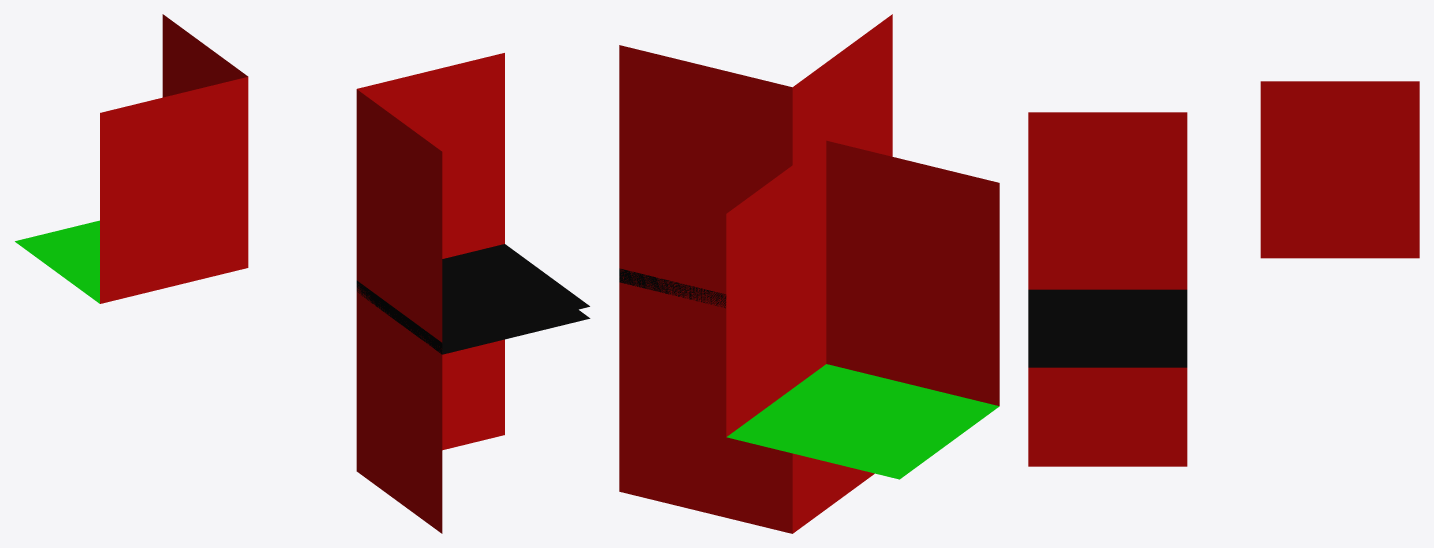
3 views of the same model, side by side, from view 1: azimuth 30°, elevation 25°; view 2: azimuth 150°, elevation 25°; view 3: azimuth 270°, elevation 25° (orthographic). The views are drawn at different scales.
Parts seen in each view (by area): view 1: None_A_P_A_E_W_A_E_A_None; view 2: None_A_P_A_E_W_A_E_A_None; view 3: None_A_P_A_E_W_A_E_A_None.
Boxes of the visible parts, x1,y1,x2,y2 form: None_A_P_A_E_W_A_E_A_None: (15,14,590,533); None_A_P_A_E_W_A_E_A_None: (619,14,999,533); None_A_P_A_E_W_A_E_A_None: (1028,81,1419,466).
Bounding box in the file's own units: 100 × 100 × 100.
